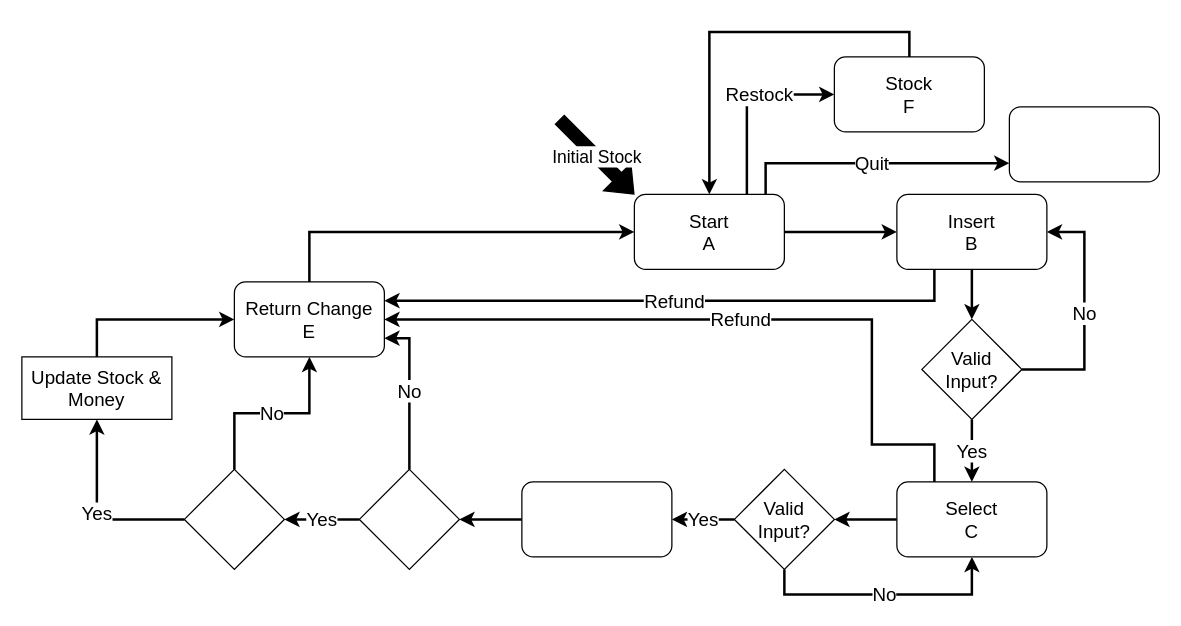
Image size: 1181x626. Some labels were removed from this diagram. The centre of each missing label's shape, as x and y in pixels:
Dispense D: the point at 596,519
Enough Money?: the point at 408,518
In Stock?: the point at 233,518
Off G: the point at 1083,144
